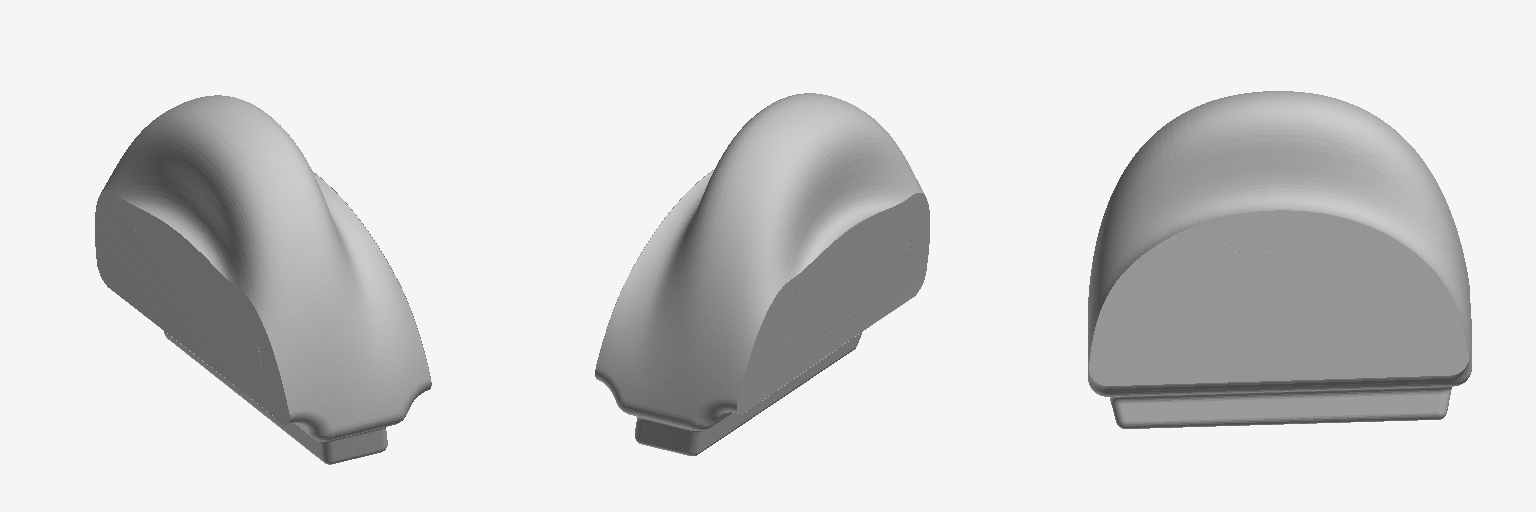
Rendered from CAD softgripper_slice6.obj.
3 renders of one model, left to right at view 1: azimuth 30°, elevation 25°; view 2: azimuth 150°, elevation 25°; view 3: azimuth 270°, elevation 25°, orthographic.
Parts seen in each view (by area): view 1: SG.AN.F1.003; view 2: SG.AN.F1.003; view 3: SG.AN.F1.003.
Part boxes in pixels (left/top/right/bottom): SG.AN.F1.003: left=95, top=95, right=431, bottom=464; SG.AN.F1.003: left=595, top=93, right=929, bottom=455; SG.AN.F1.003: left=1088, top=91, right=1471, bottom=428.
Size of the model in its own units: 0.0099 by 0.0172 by 0.02.